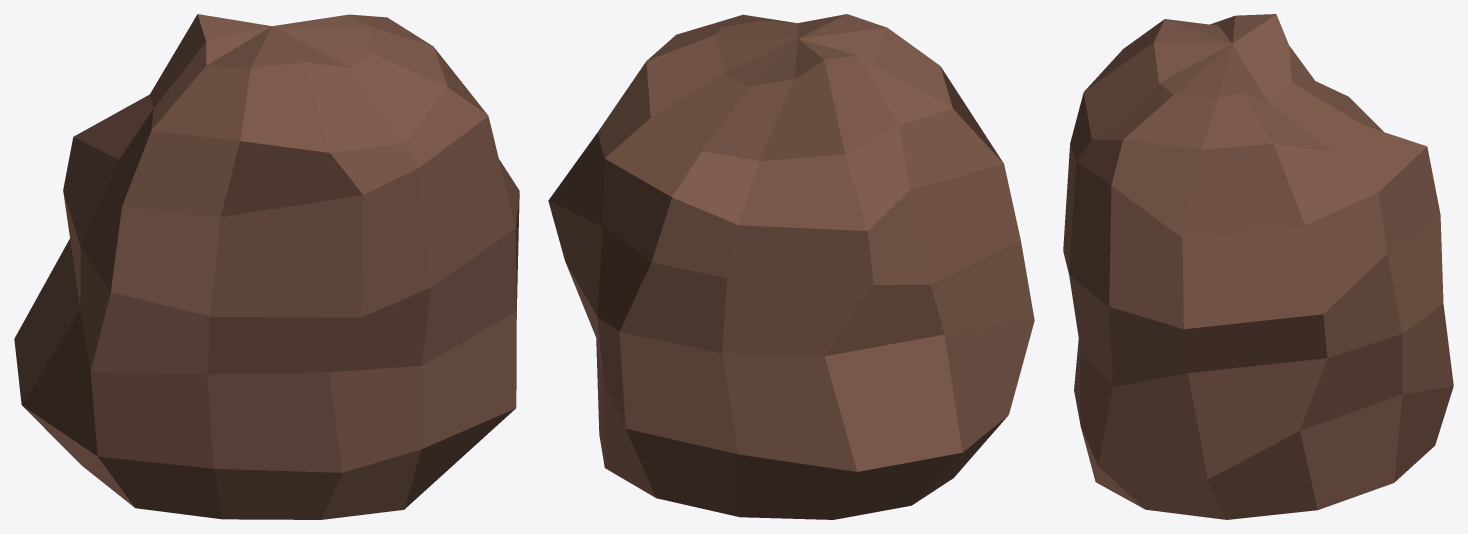
The model's file is rock-large.glb.
3 renders of one model, left to right at view 1: azimuth 30°, elevation 25°; view 2: azimuth 150°, elevation 25°; view 3: azimuth 270°, elevation 25°, orthographic. The views are drawn at different scales.
Visible parts, largest first — view 1: group2139200616; view 2: group2139200616; view 3: group2139200616.
Part boxes in pixels (x1=…): group2139200616: x1=14, y1=14, x2=519, y2=519; group2139200616: x1=548, y1=14, x2=1034, y2=519; group2139200616: x1=1063, y1=14, x2=1453, y2=519.
Bounding box in the file's own units: 1.39 × 1.37 × 1.16.
